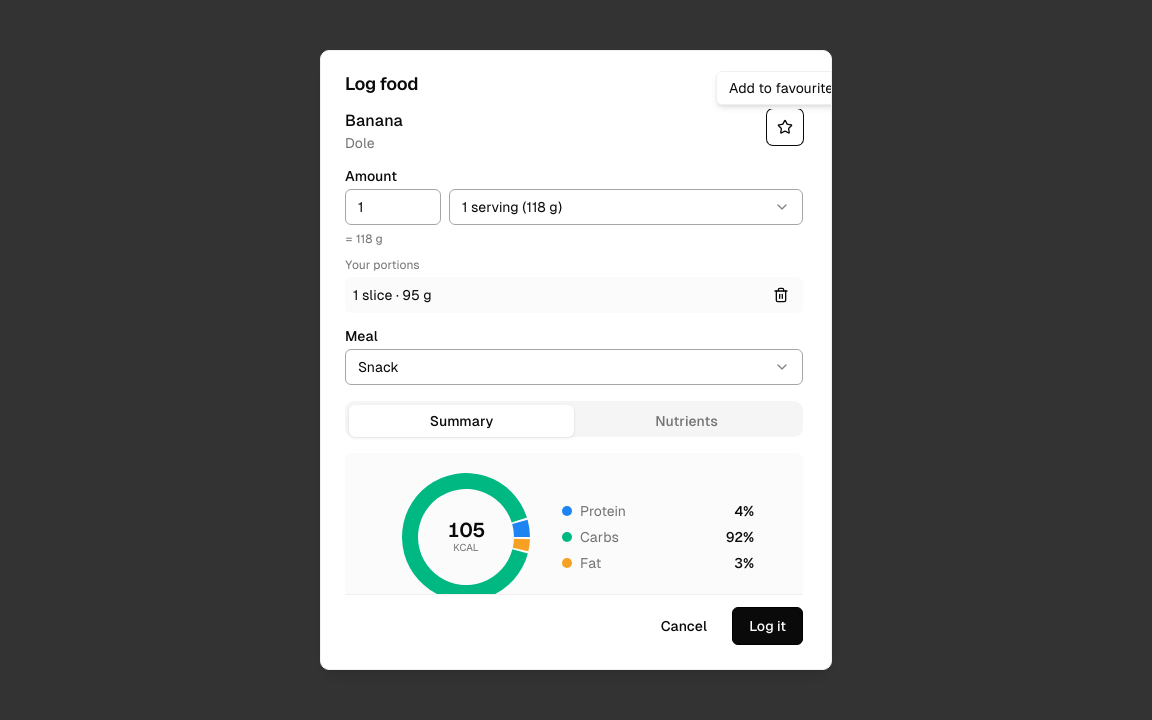
Scenario: LogFoodDialog › removing a portion › falls back to grams when the removed portion was the selected one
Click the dropdown with test id "select-unit". click: point(512, 207)
box: [449,189,803,225]
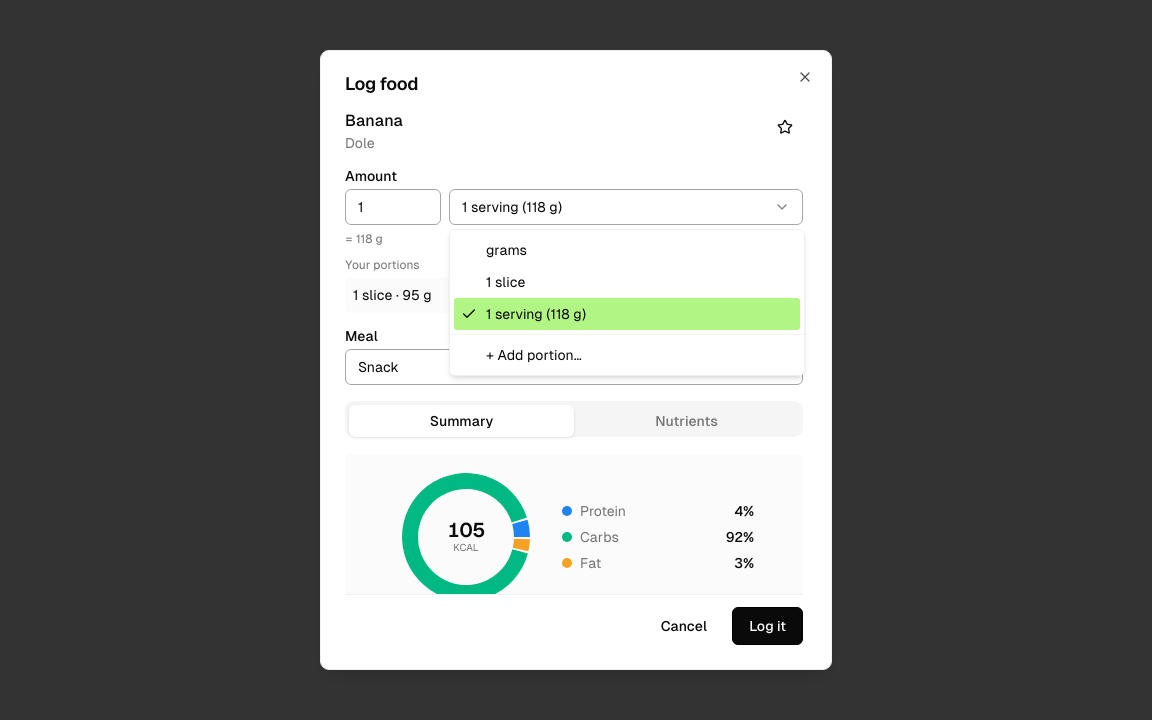
Click the option "1 slice". click: point(506, 282)
box: [486,274,526,290]
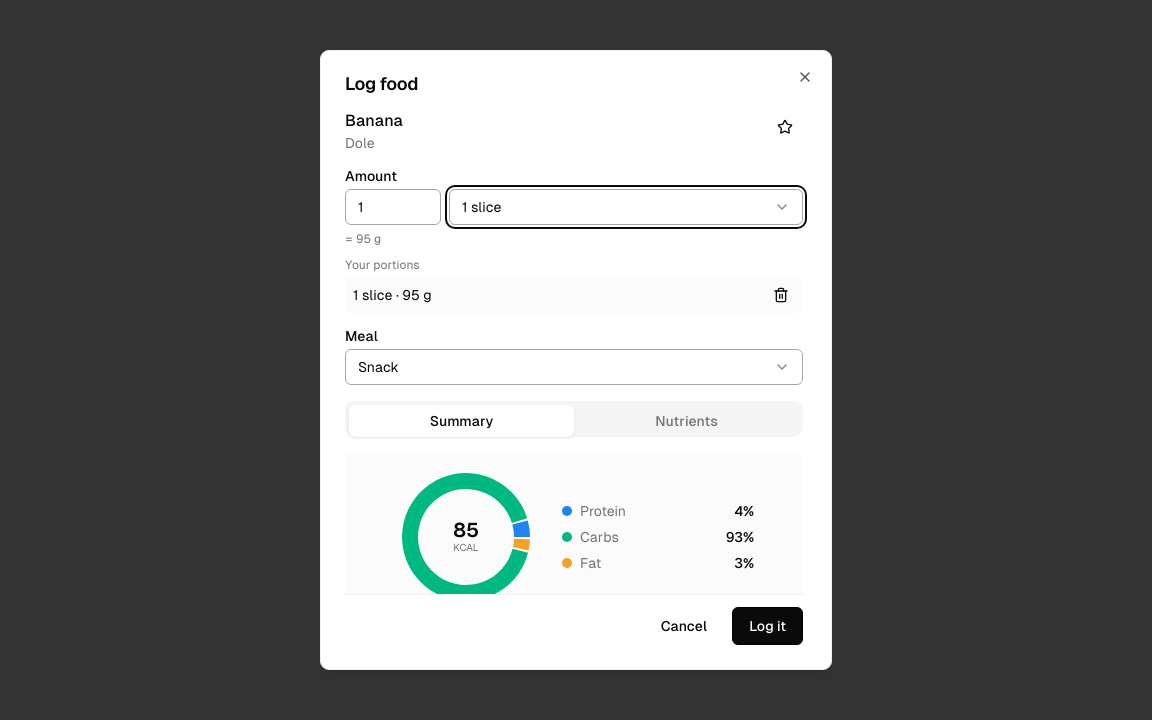
Expected: the dropdown with test id "select-unit" reads "1 slice", [449,189,803,225]
Click the button with test id "button-remove-portion". click: point(781, 295)
box: [767,281,795,309]
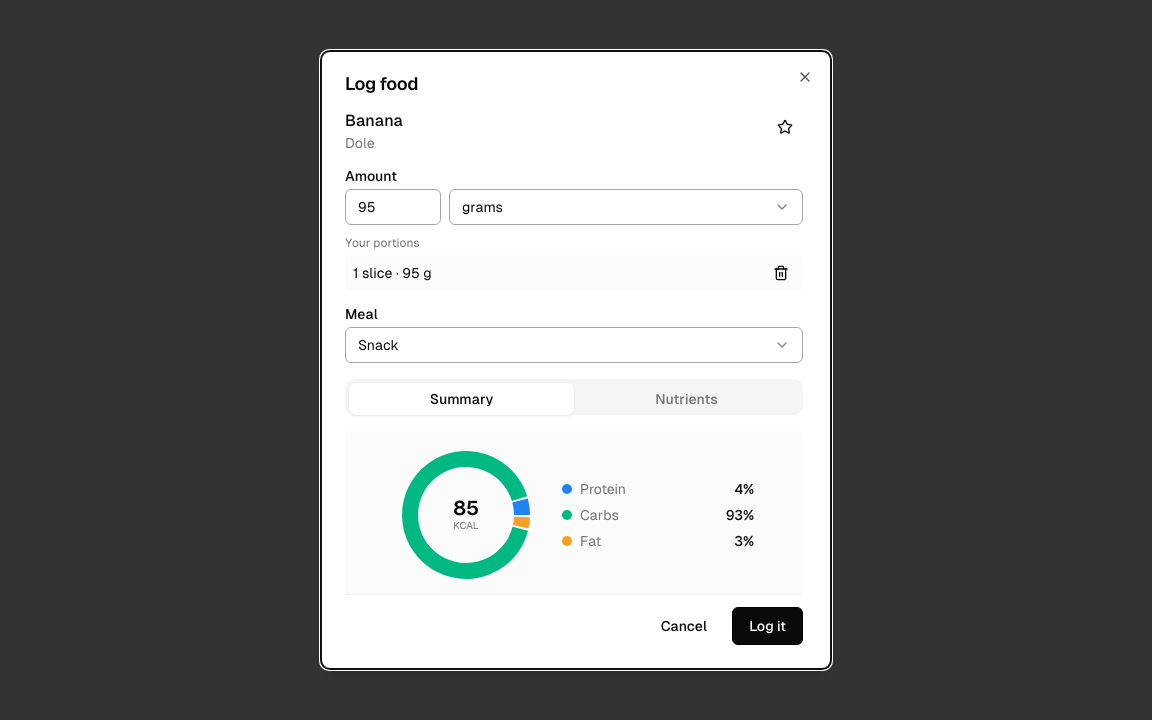
Expected: the dropdown with test id "select-unit" reads "grams", [449,189,803,225]
Expected: the number field with test id "input-quantity" holds "95", [345,189,441,225]
